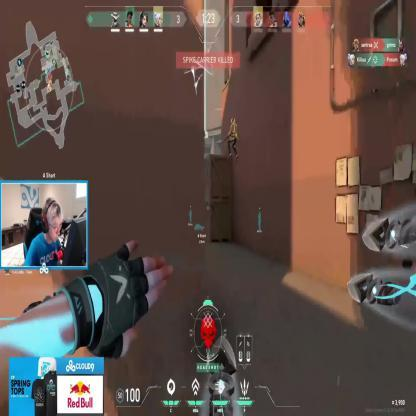enemy: (226, 117, 238, 161)
enemy_head: (230, 118, 236, 127)
